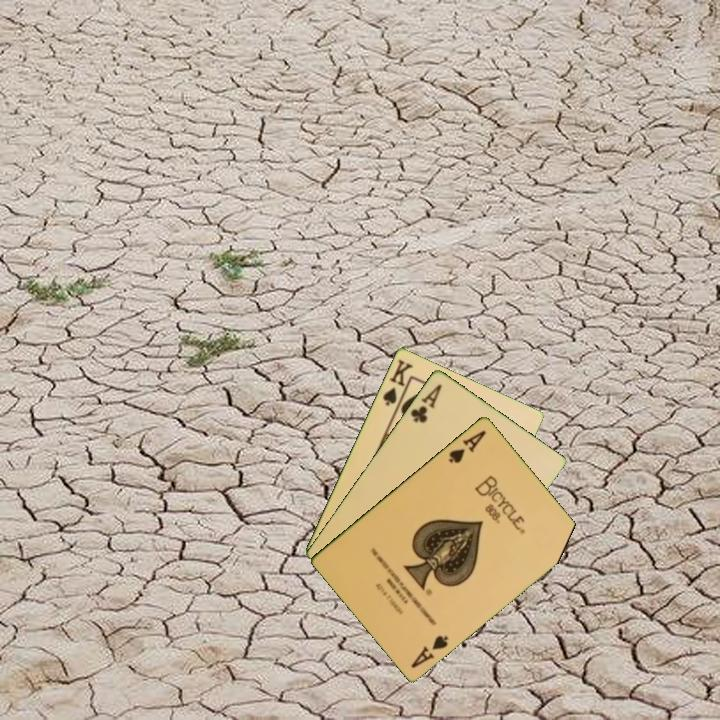Ac: (407, 380, 445, 426)
As: (445, 426, 489, 466), (407, 631, 451, 671)
Ks: (379, 355, 416, 412)
